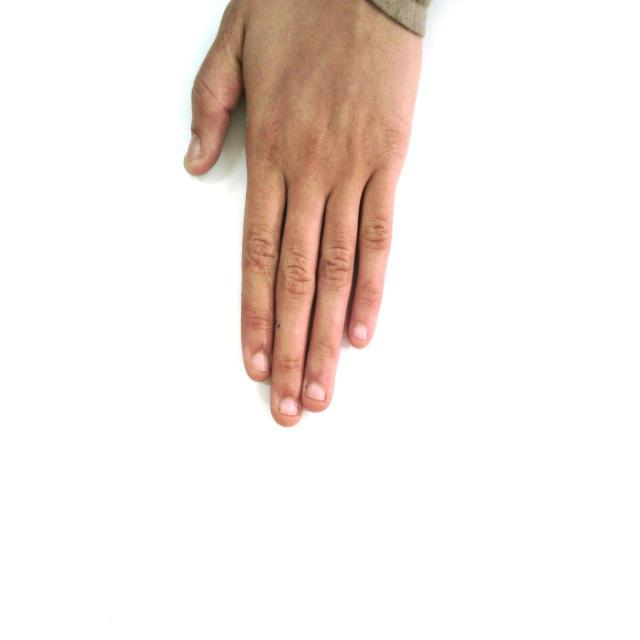Fingernail: (186, 138, 200, 164), (250, 353, 268, 371), (279, 398, 299, 414), (308, 383, 325, 400), (353, 325, 367, 341)
